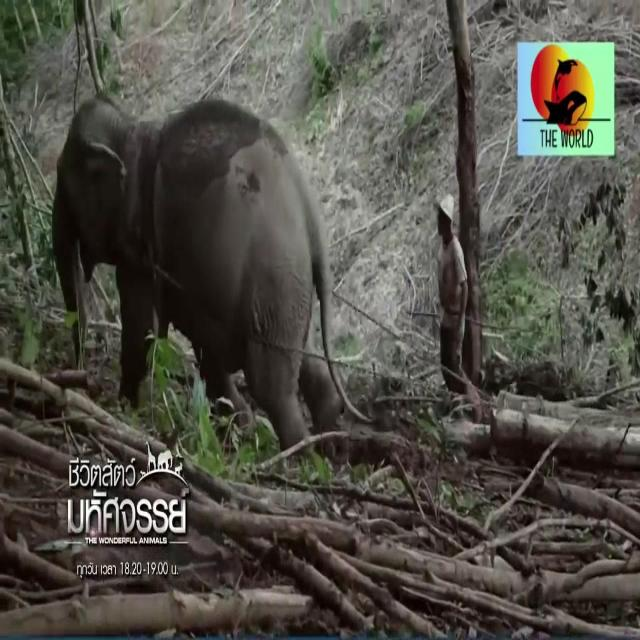Elephant: (54, 88, 305, 351)
